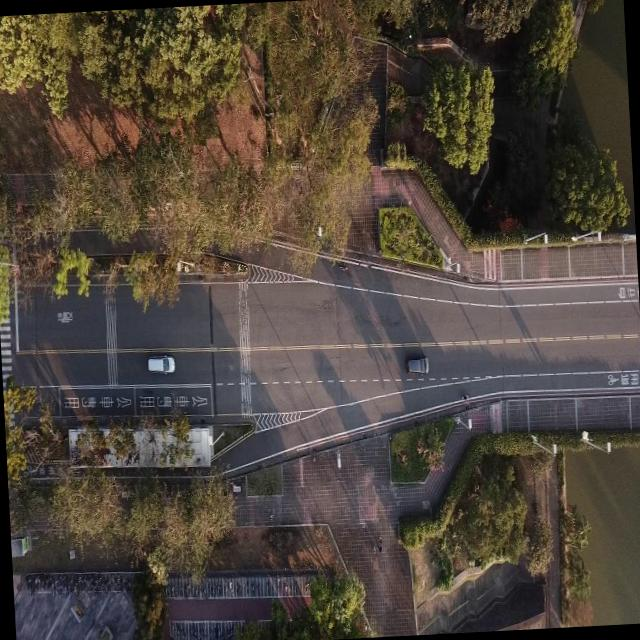car: (146, 353, 176, 377), (404, 356, 430, 376)
